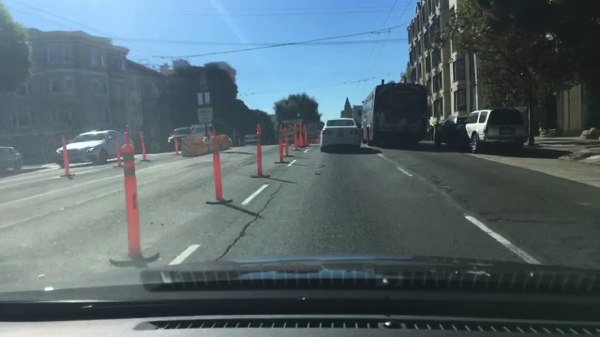bus: (360, 84, 428, 147)
car: (55, 132, 137, 169), (462, 110, 529, 155), (321, 118, 362, 153), (166, 127, 206, 154), (436, 114, 465, 148), (0, 145, 24, 171), (280, 120, 306, 144), (349, 106, 363, 127), (242, 133, 258, 145)
person: (427, 122, 434, 141)
